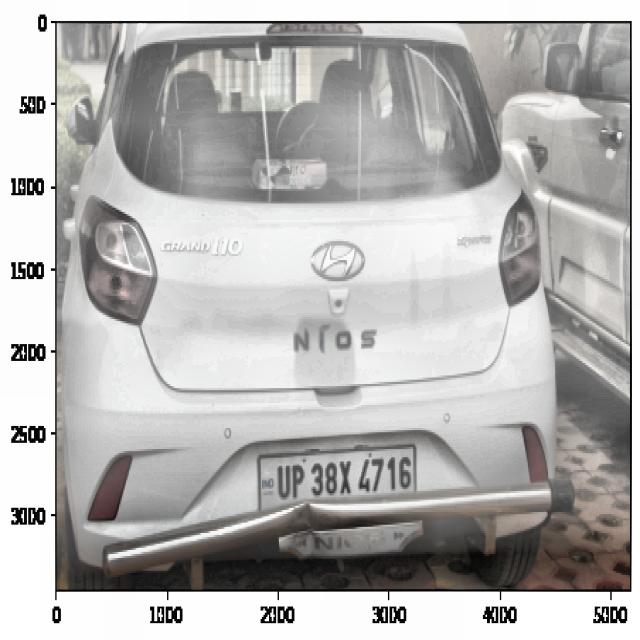license_plate: (271, 448, 416, 507)
